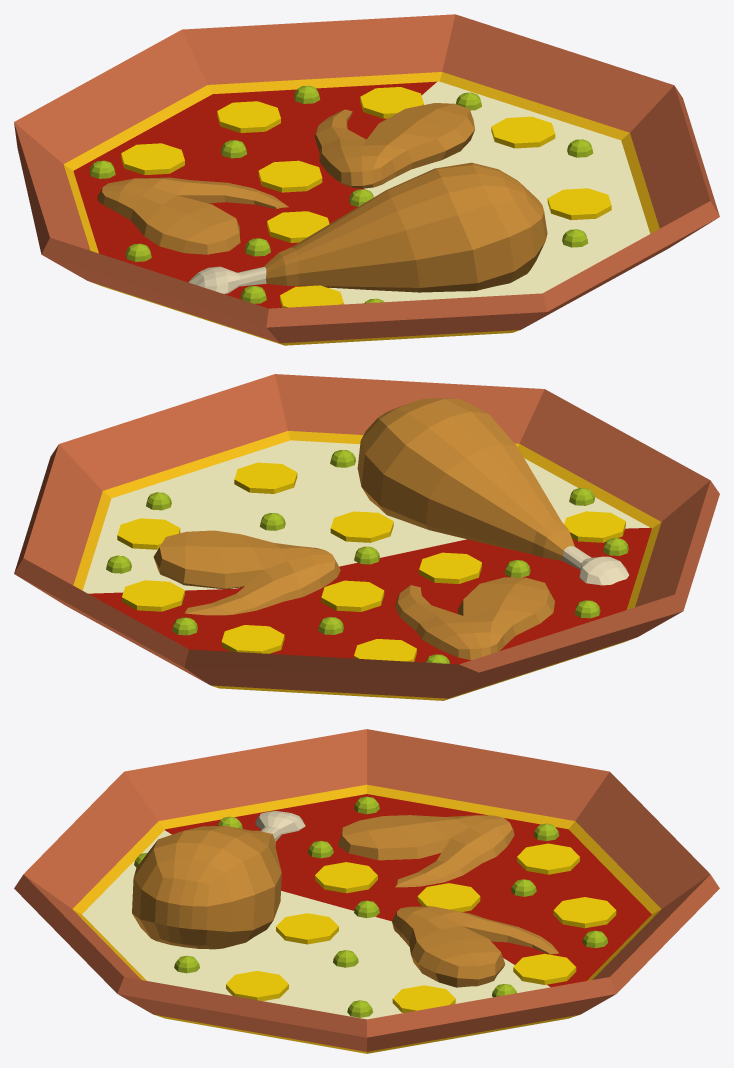
File: Plato_Picante_Pollo.fbx
3 views of the same model, one above another, from view 1: azimuth 30°, elevation 25°; view 2: azimuth 150°, elevation 25°; view 3: azimuth 270°, elevation 25° (orthographic). The views are drawn at different scales.
Visible parts, largest first — view 1: Plato_Picante_Pollo; view 2: Plato_Picante_Pollo; view 3: Plato_Picante_Pollo.
Boxes of the visible parts, x1,y1,x2,y2 form: Plato_Picante_Pollo: (14, 14, 719, 345); Plato_Picante_Pollo: (14, 374, 719, 700); Plato_Picante_Pollo: (14, 729, 719, 1053).
Size of the model in its own units: 38.53 by 7.31 by 38.53.
